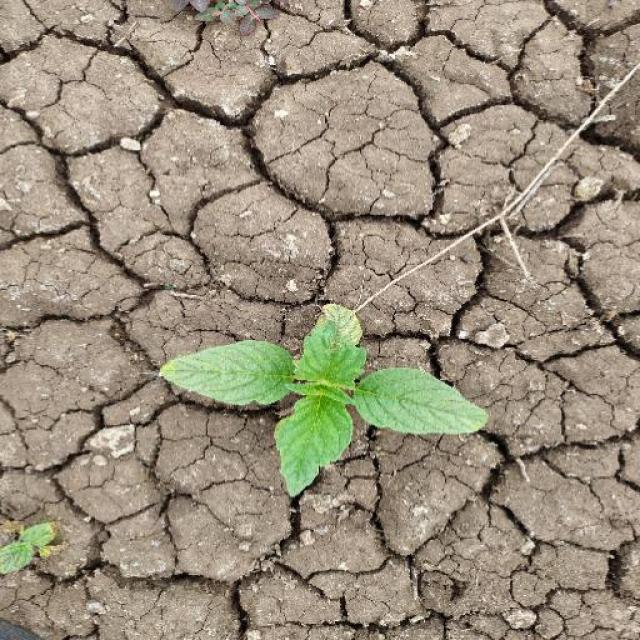crop: (158, 313, 488, 492)
